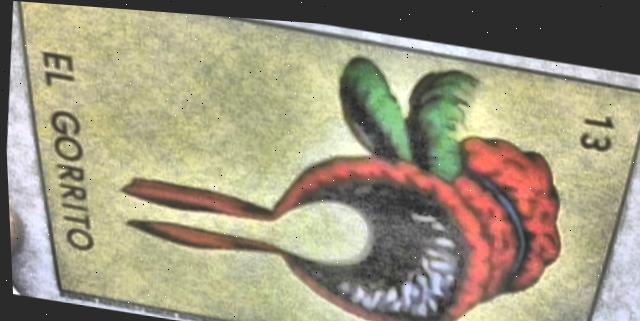El Gorrito: (21, 1, 640, 321)
